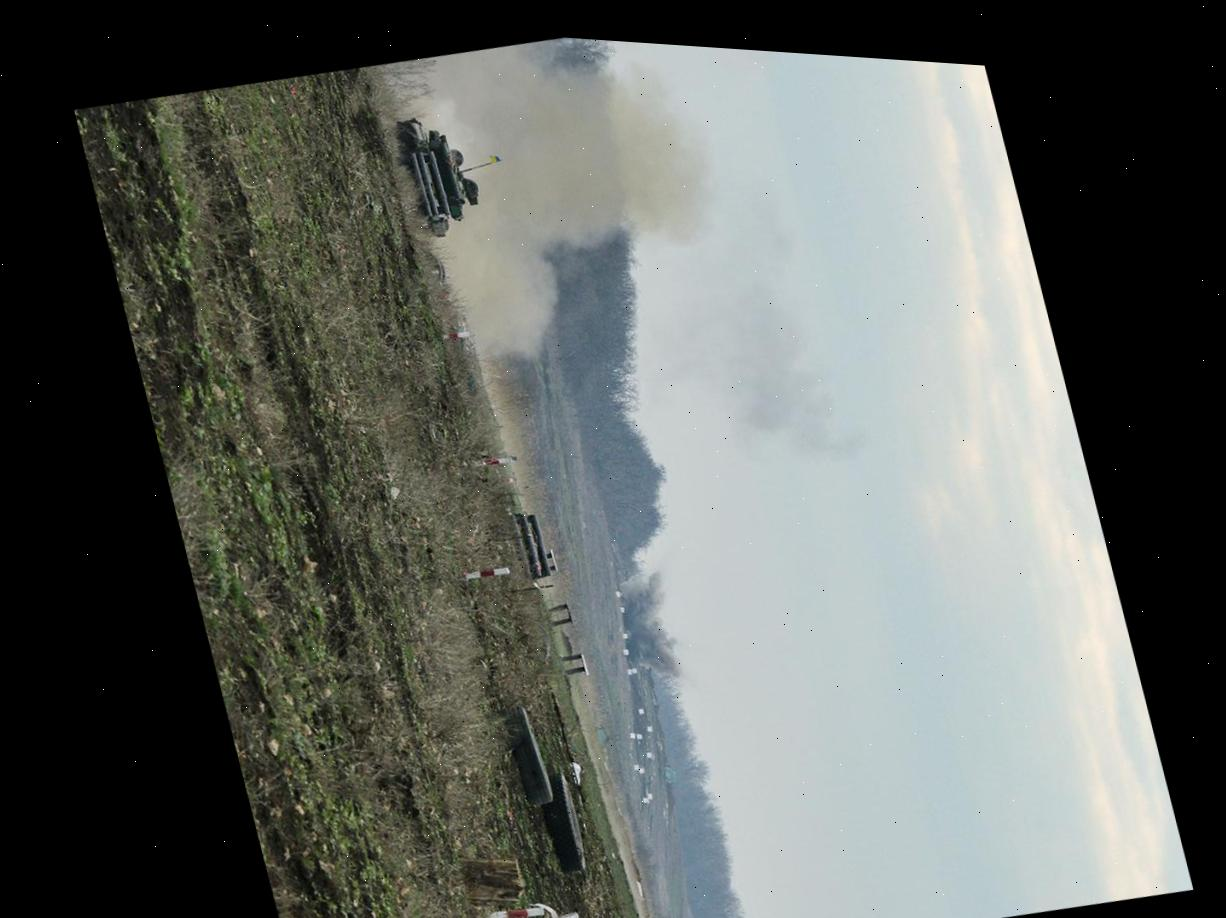tank: (388, 105, 488, 245)
